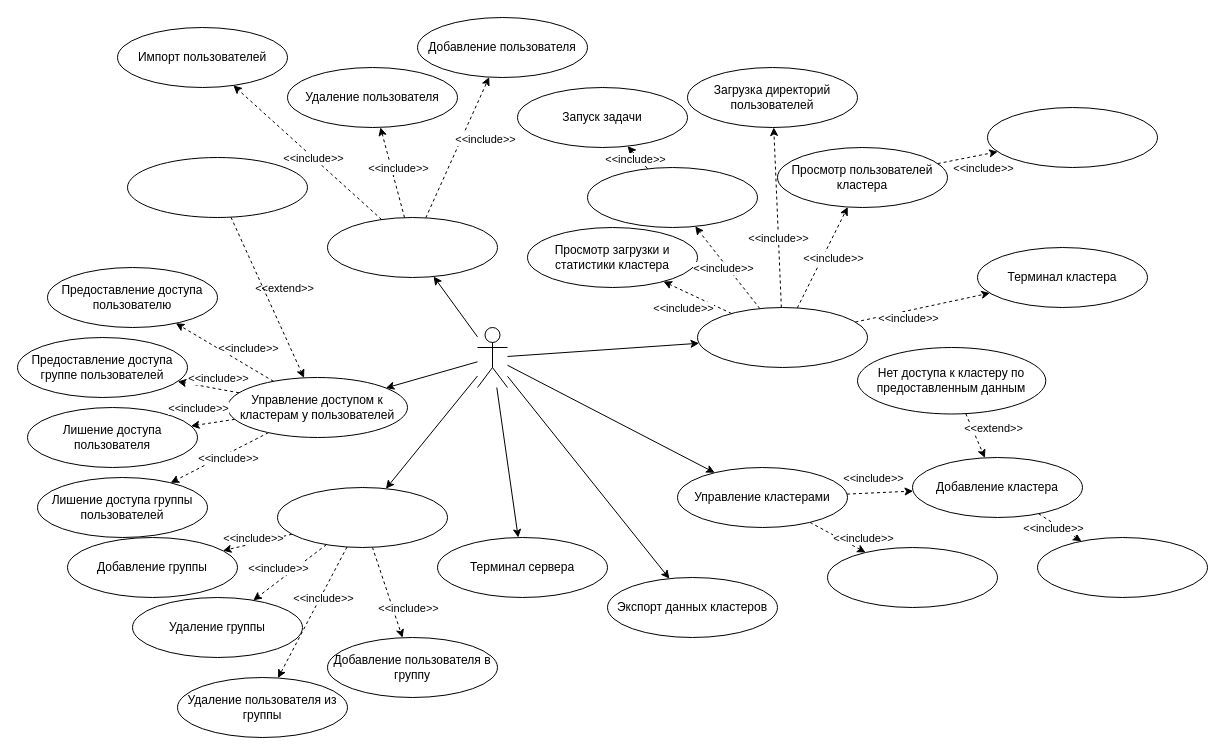
This 1225x755 diagram has some shape labels left out. Here are the shapes that lost their labels. From the top down, the centre of each, then its label:
At pixel 1072 137: "Экспорт пользователей кластера".
At pixel 217 187: "Нет прав у профиля администратора на кластере".
At pixel 672 197: "Просмотр очереди задач".
At pixel 412 247: "Управление пользователями платформы".
At pixel 492 357: "Администратор".
At pixel 782 337: "Выбор добавленного кластера".
At pixel 362 517: "Управление группами пользователей".
At pixel 912 577: "Удаление кластера".
At pixel 1122 567: "Выбор планировщика задач".
